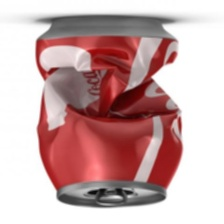can: (28, 10, 186, 212)
